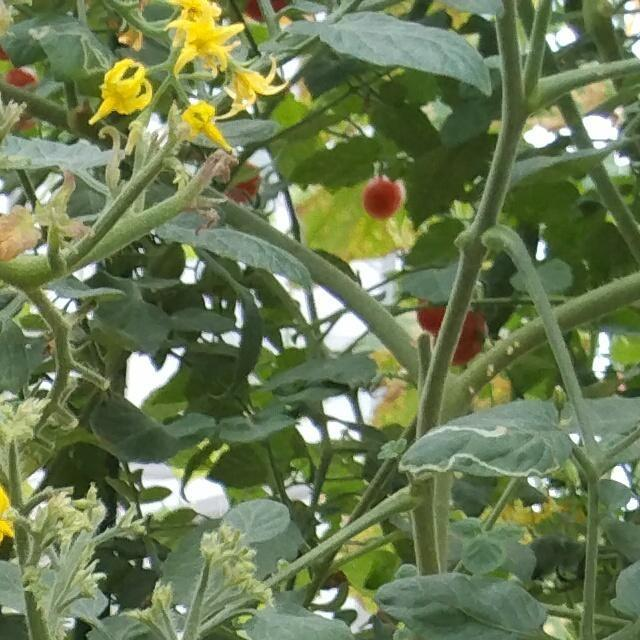Healthy: (282, 9, 494, 98), (375, 572, 547, 640), (222, 498, 291, 542)
Leaf_Miner: (398, 395, 579, 489)
